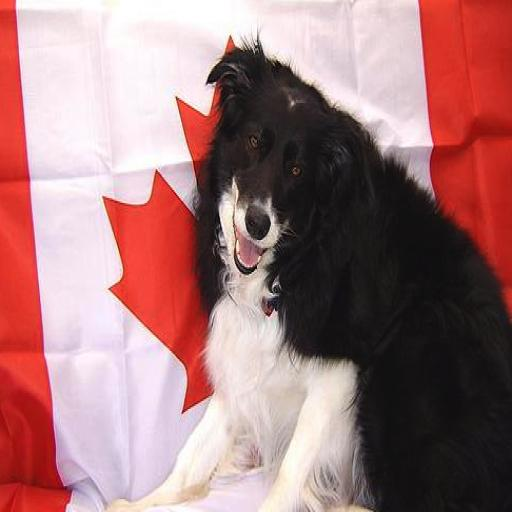dog_face: (205, 57, 358, 276)
